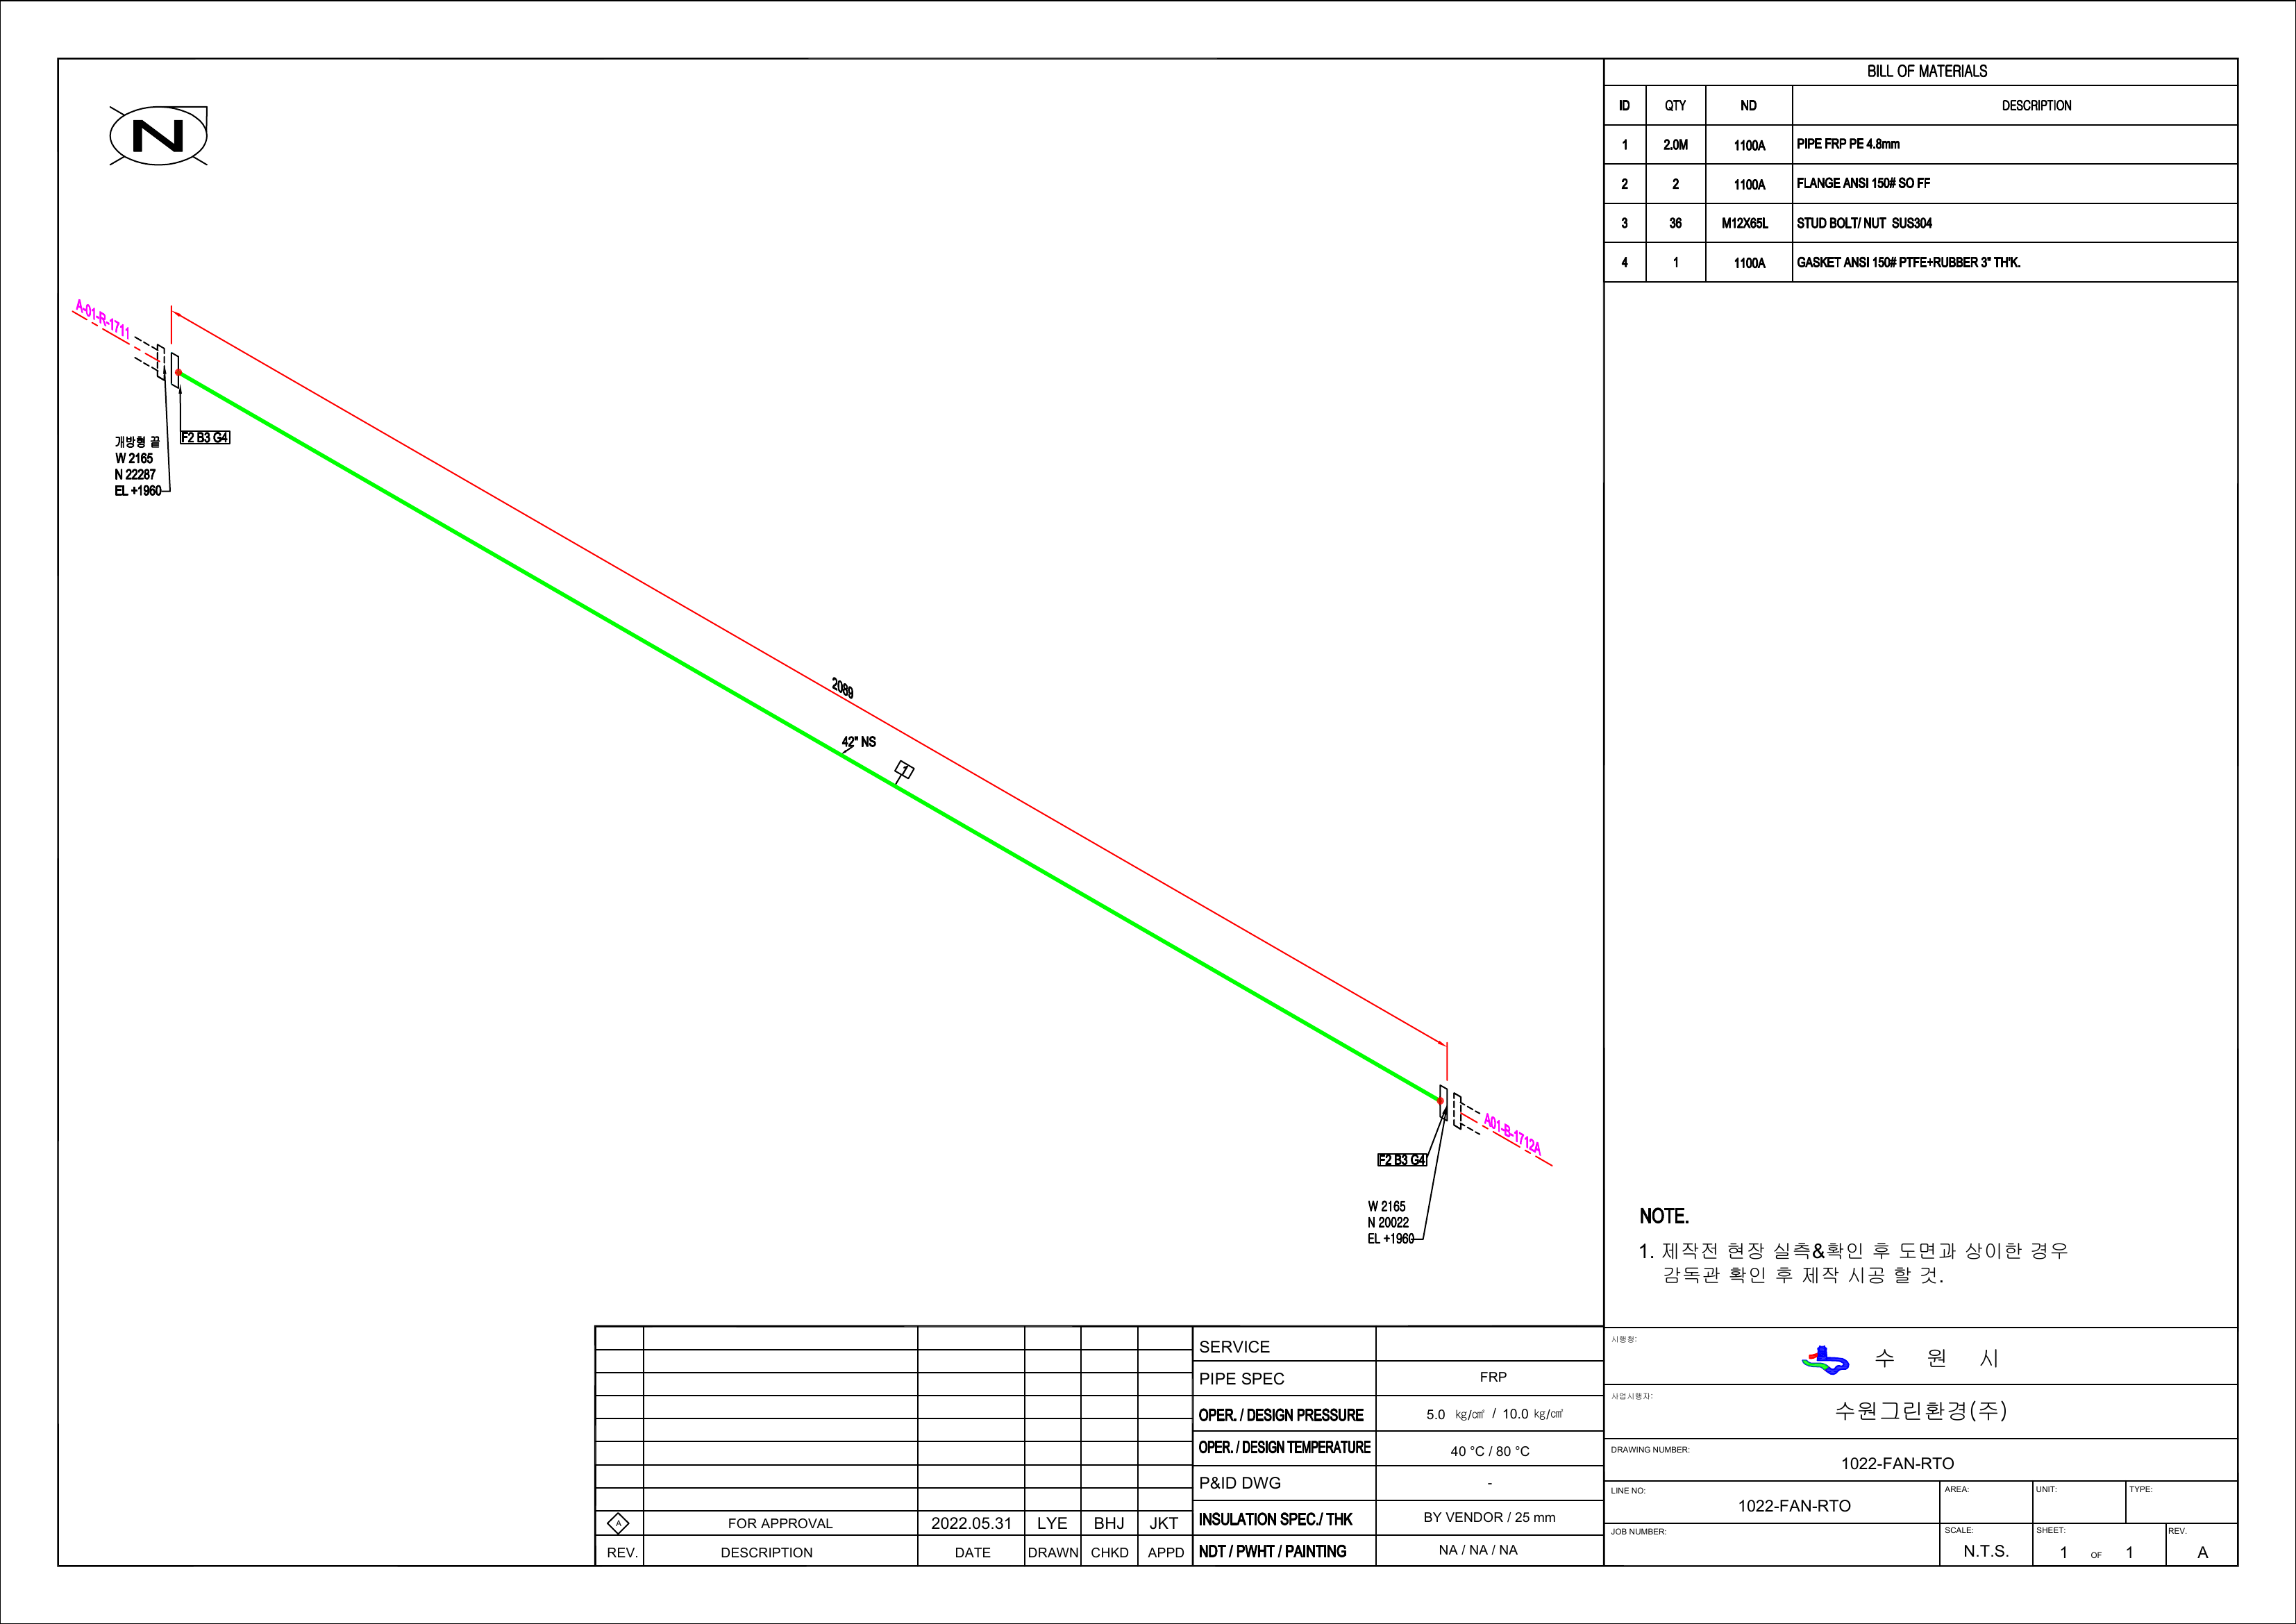table: (1599, 47, 2242, 288)
